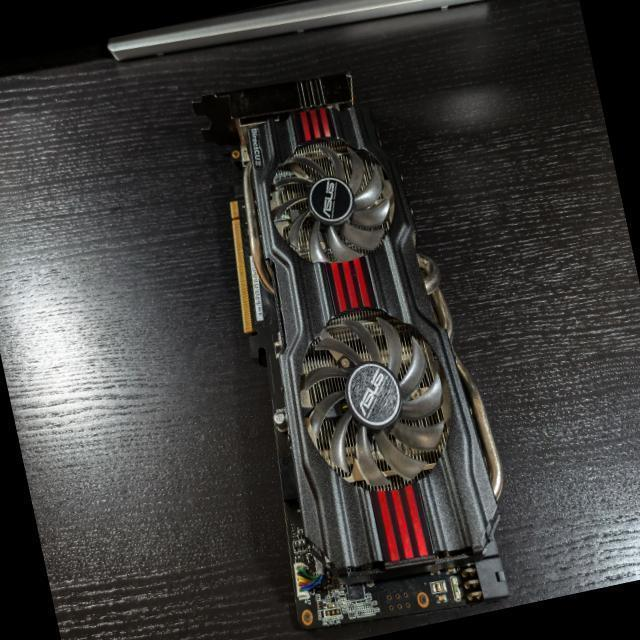GPU: (161, 64, 518, 636)
